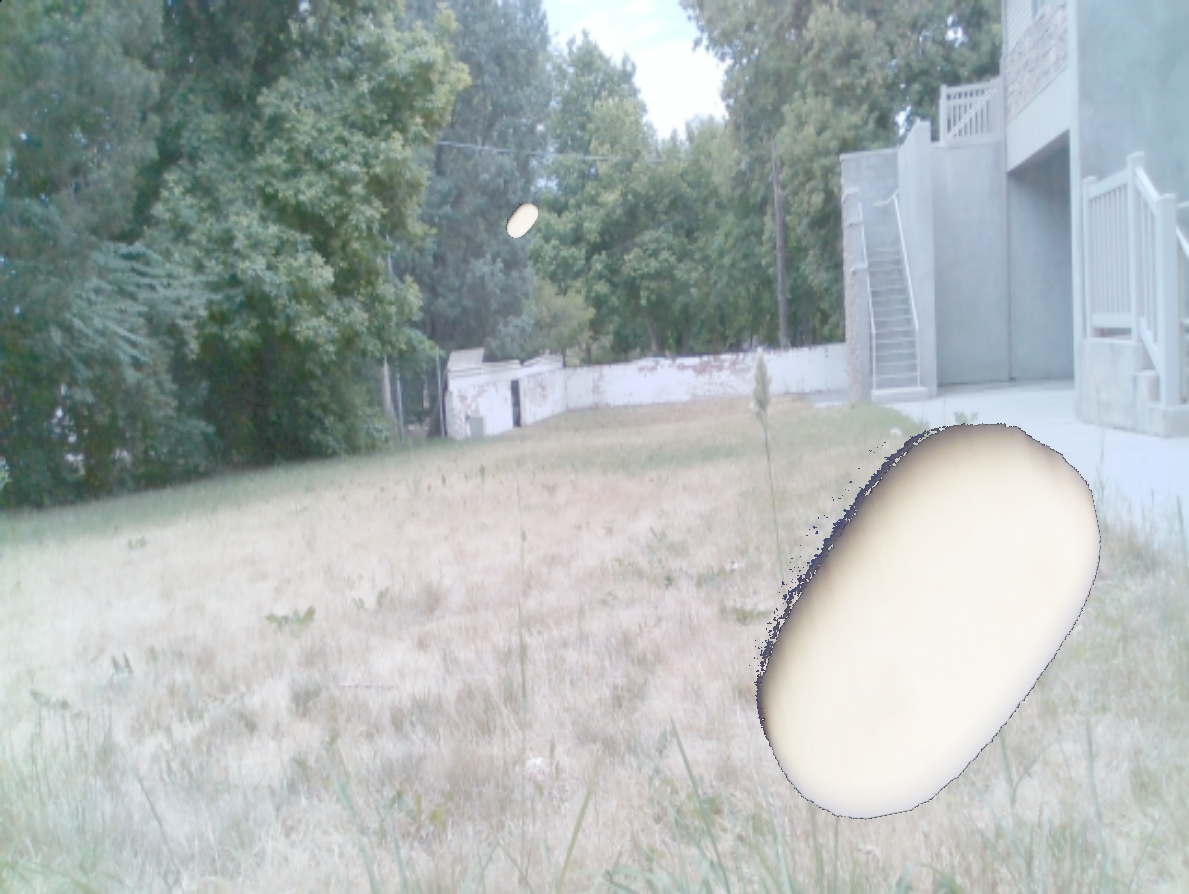test: (708, 400, 1144, 835), (503, 201, 540, 238)
